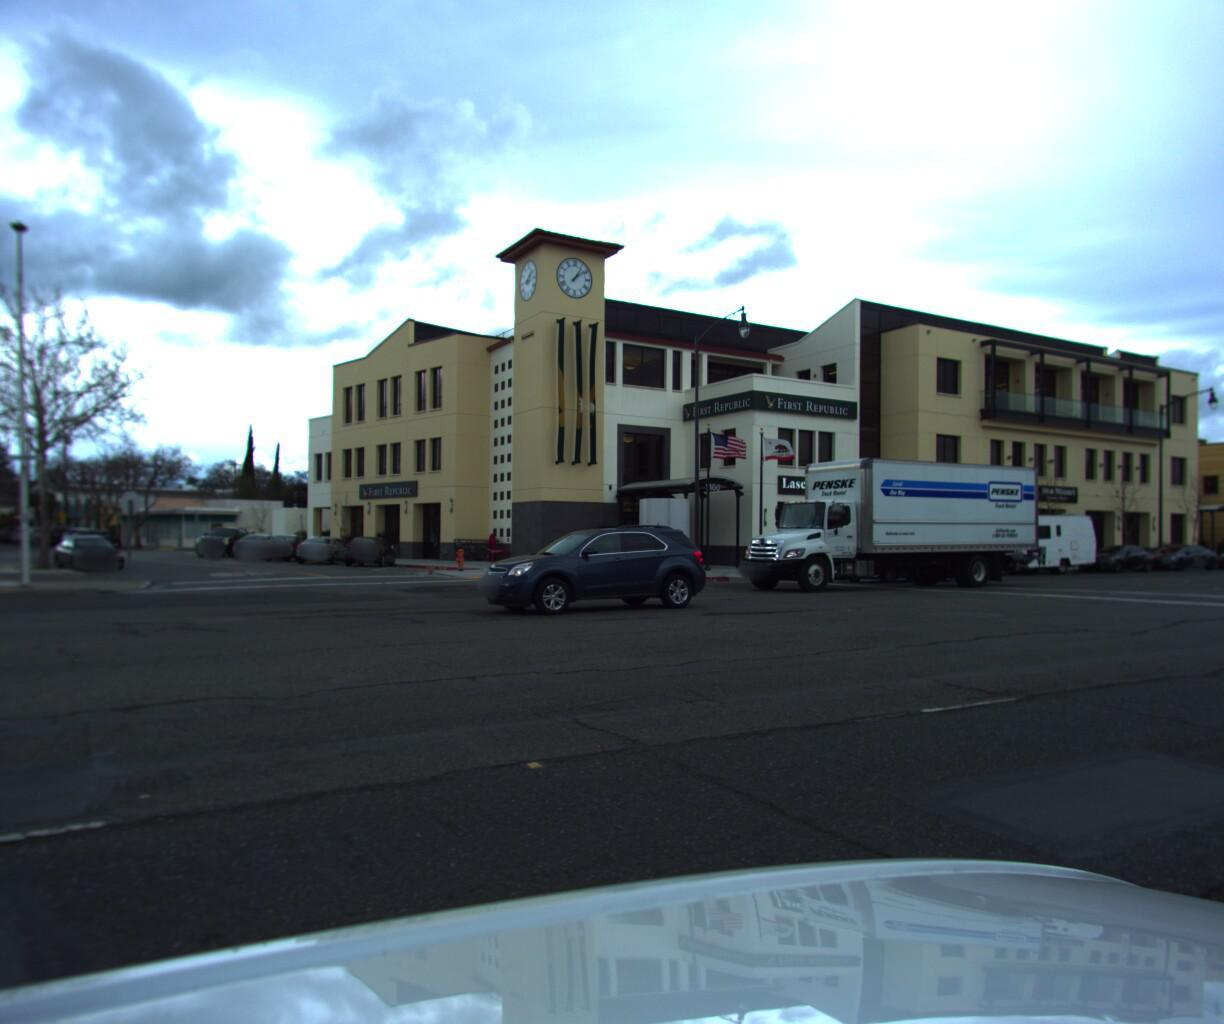car: (462, 523, 718, 621), (50, 532, 139, 573), (1068, 538, 1159, 570), (1129, 538, 1221, 567), (290, 532, 359, 565), (339, 533, 401, 568), (258, 531, 322, 562), (195, 527, 256, 557), (229, 531, 290, 559), (61, 525, 119, 546), (1204, 537, 1224, 565)
other_vehicle: (938, 502, 1101, 571)
truck: (712, 441, 1057, 595)
